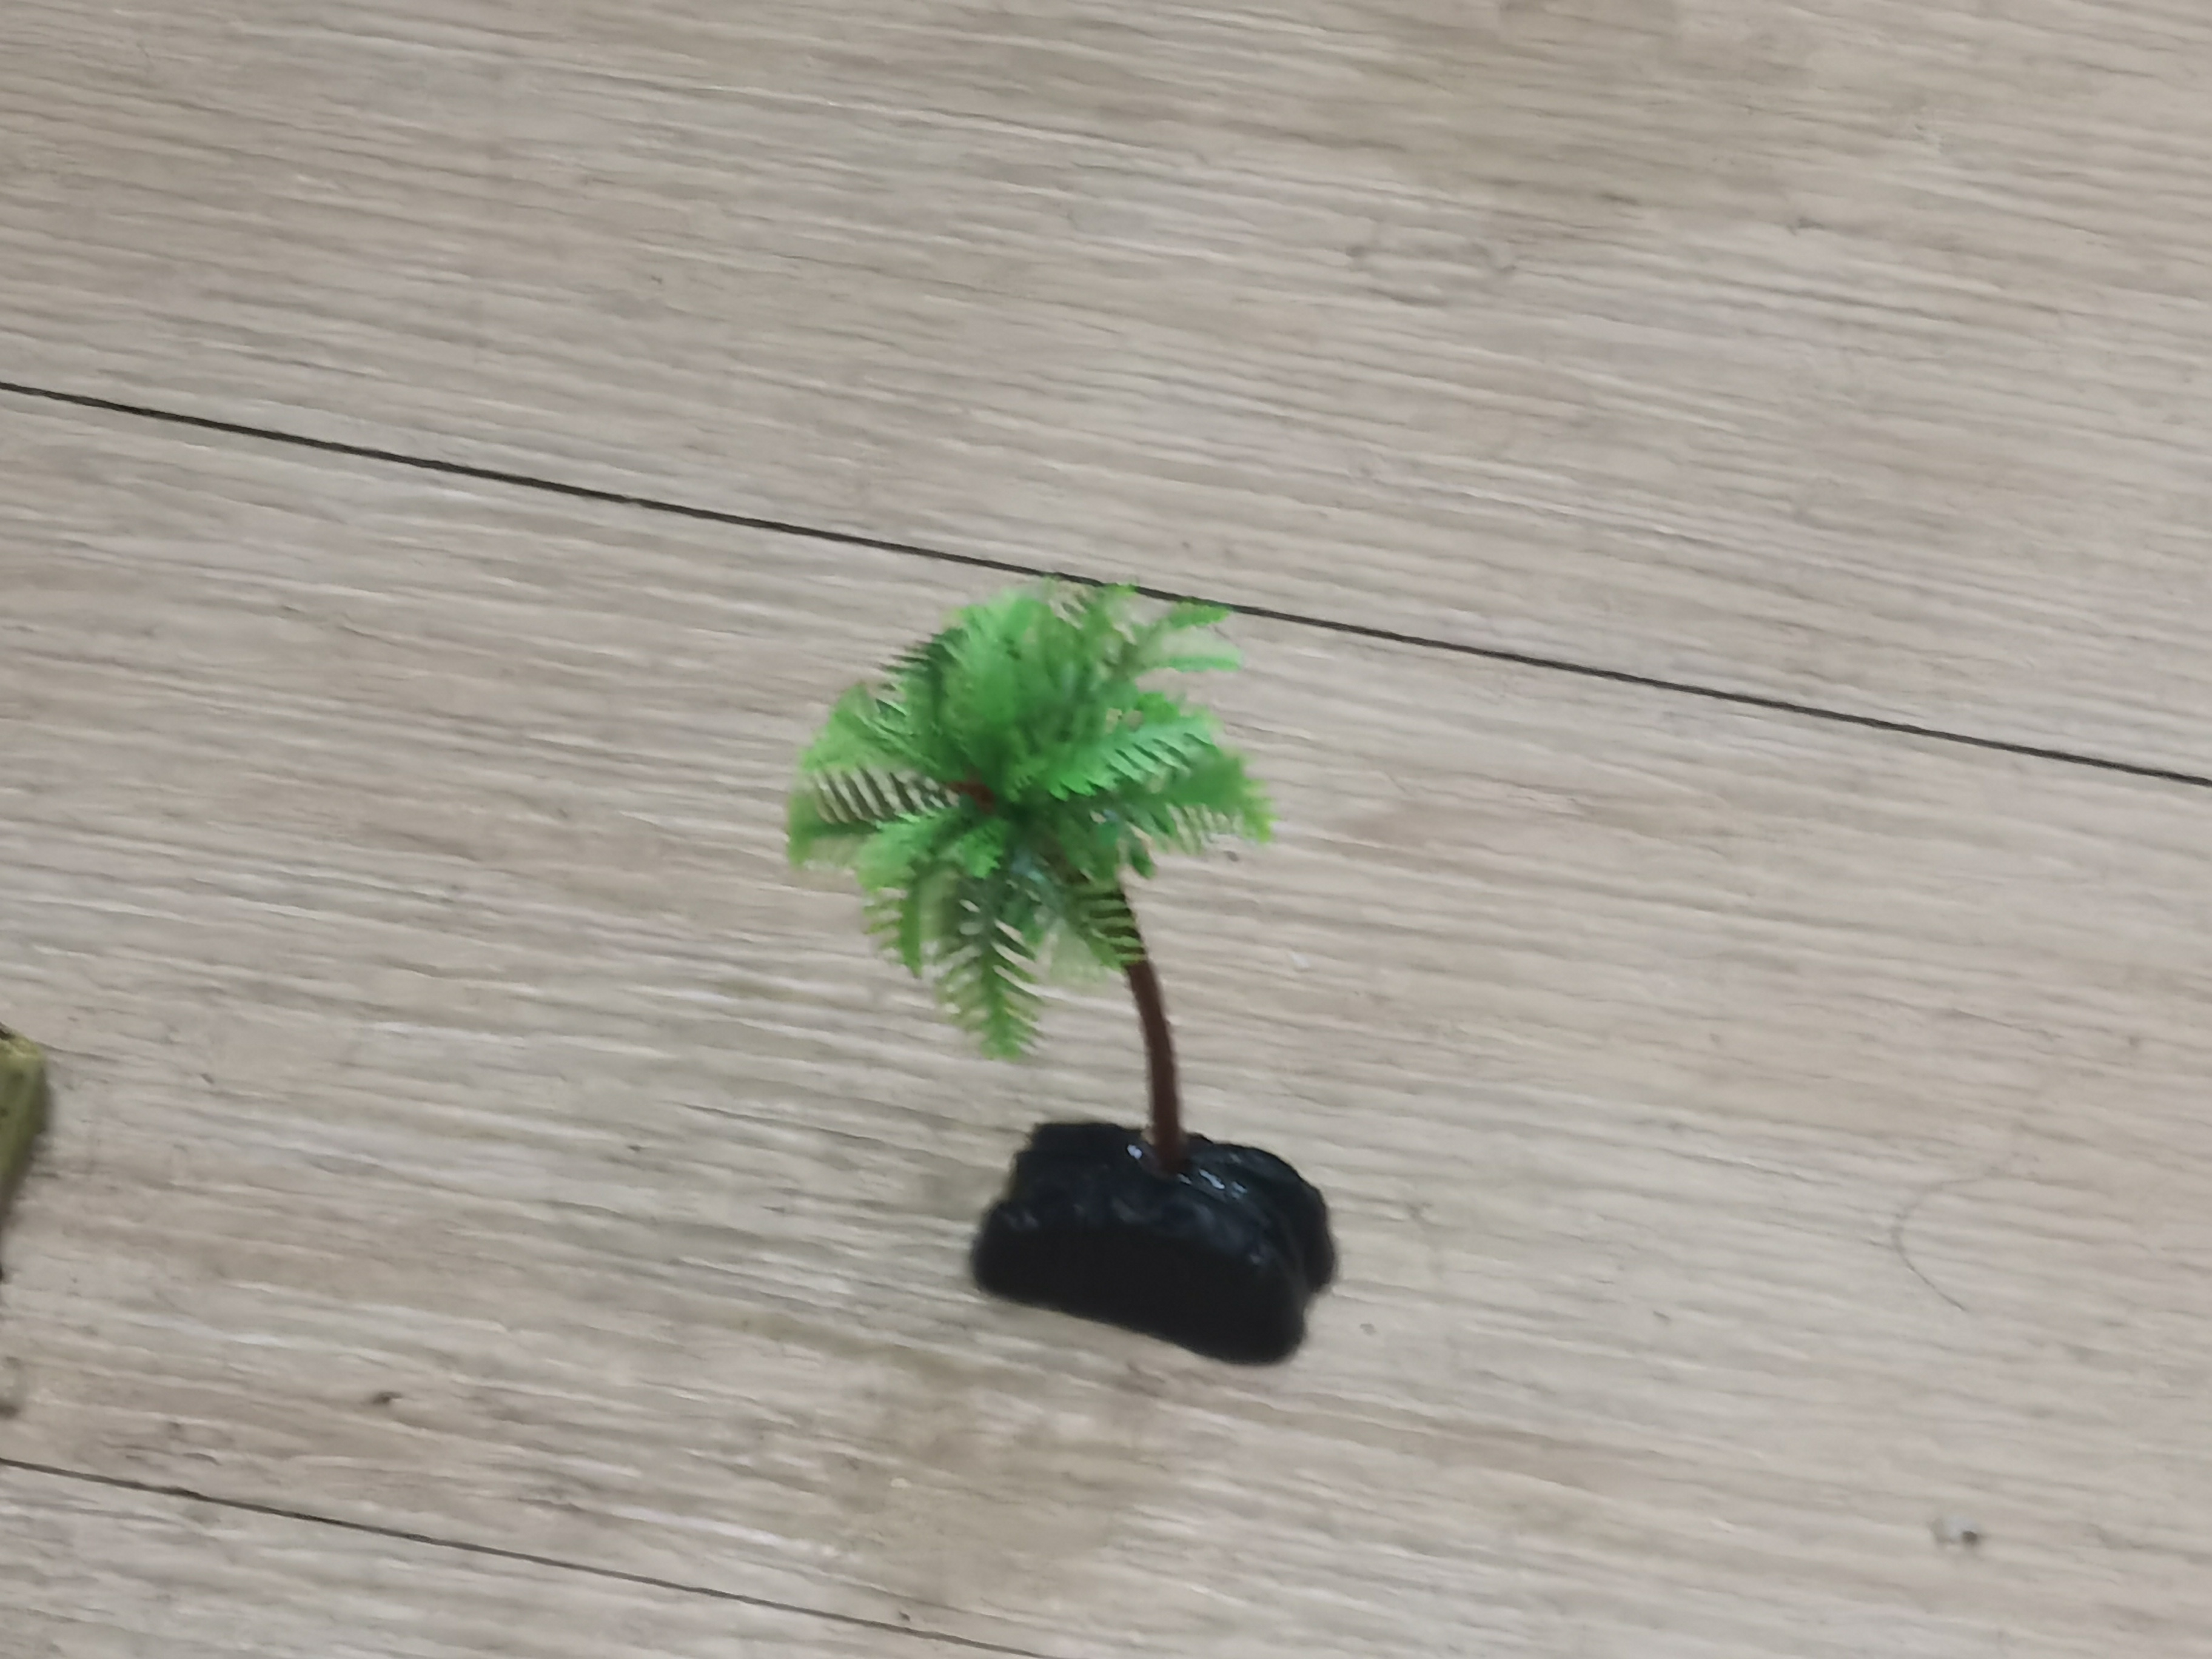corn: (789, 563, 1346, 1378)
